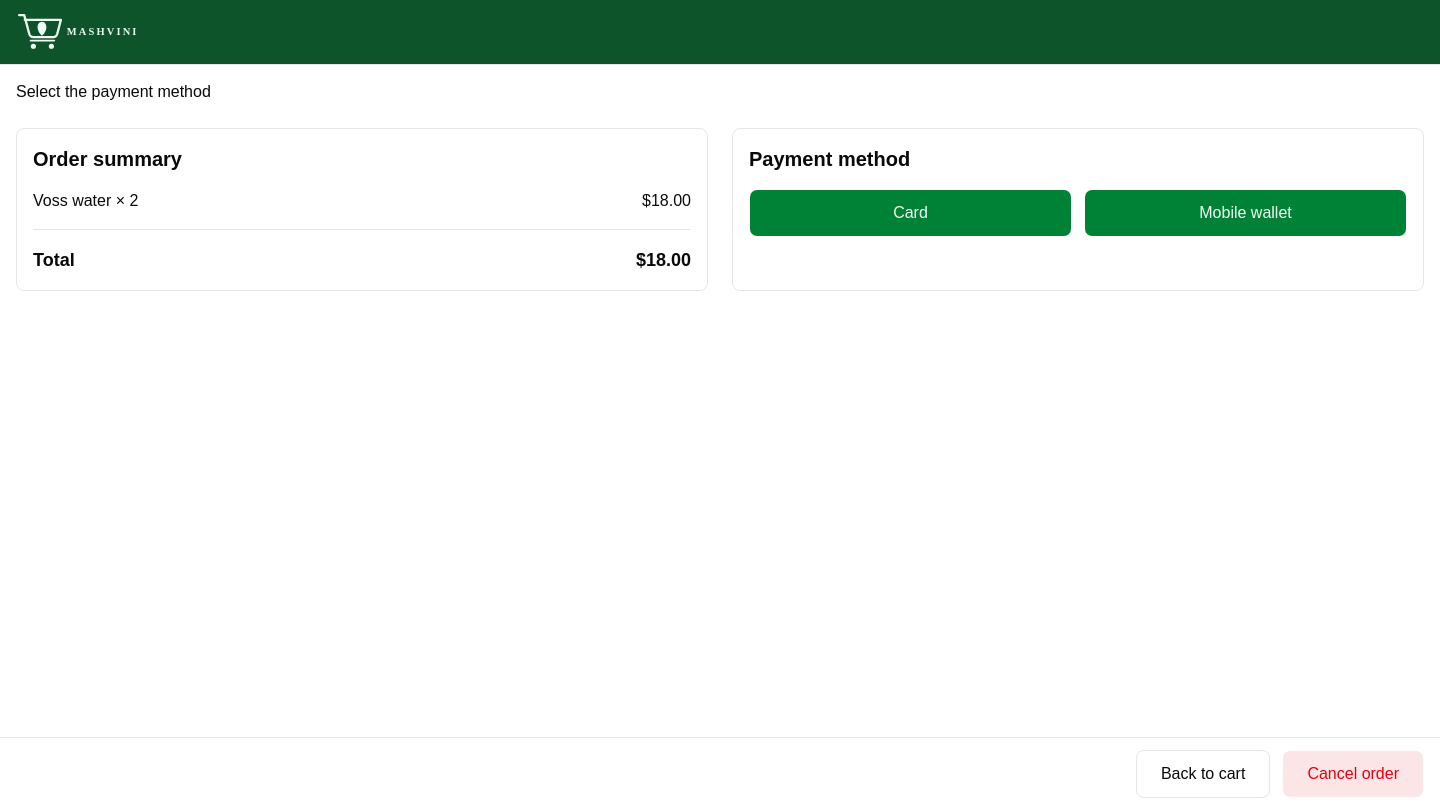
Scenario: PaymentScreen › shows the support dialog after three consecutive declined payments
The width and height of the screenshot is (1440, 810).
Click the button with aria-label "Pay with card" at (910, 213), box [749,189,1072,237]
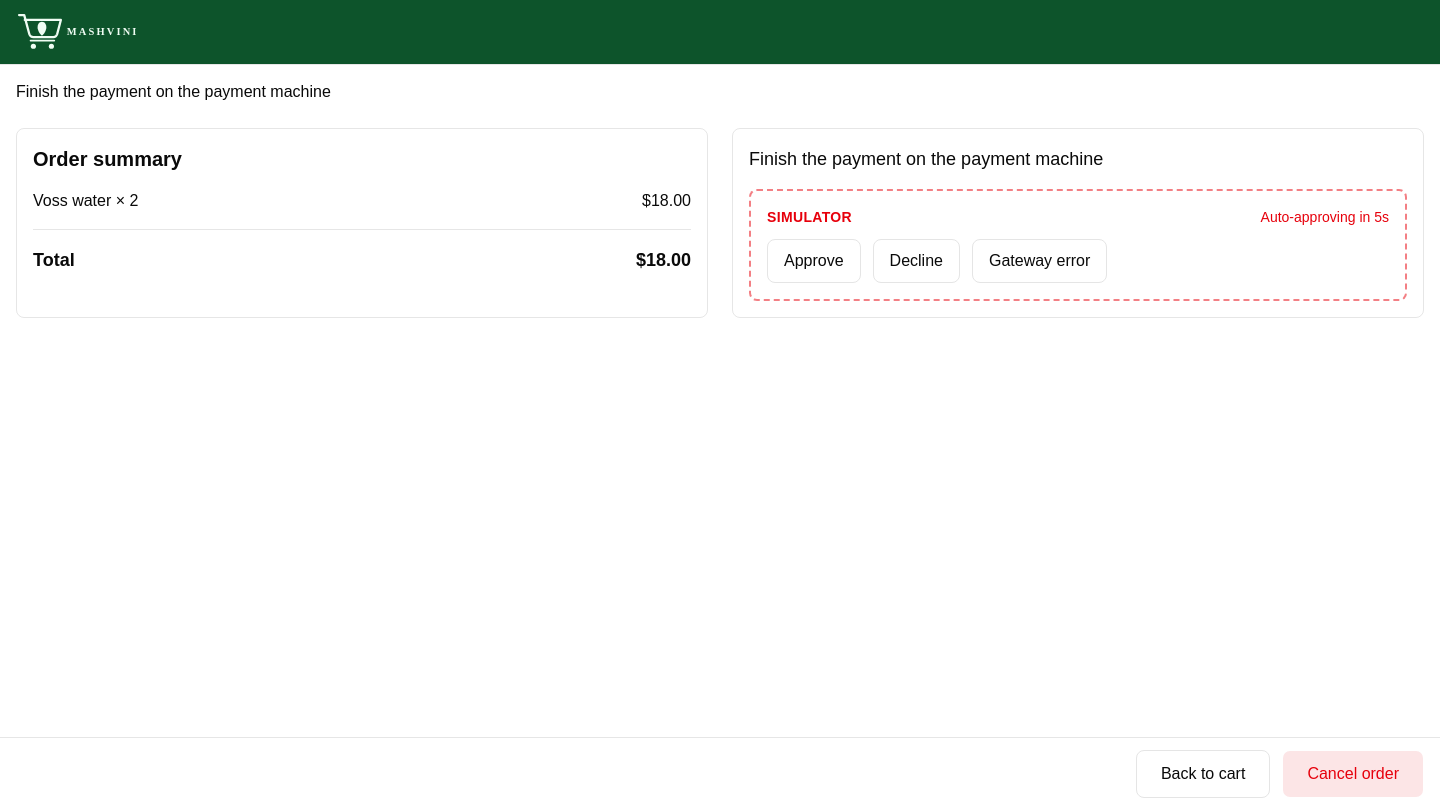
Click the button with aria-label "Simulate a declined payment" at (916, 261), box [873,239,960,283]
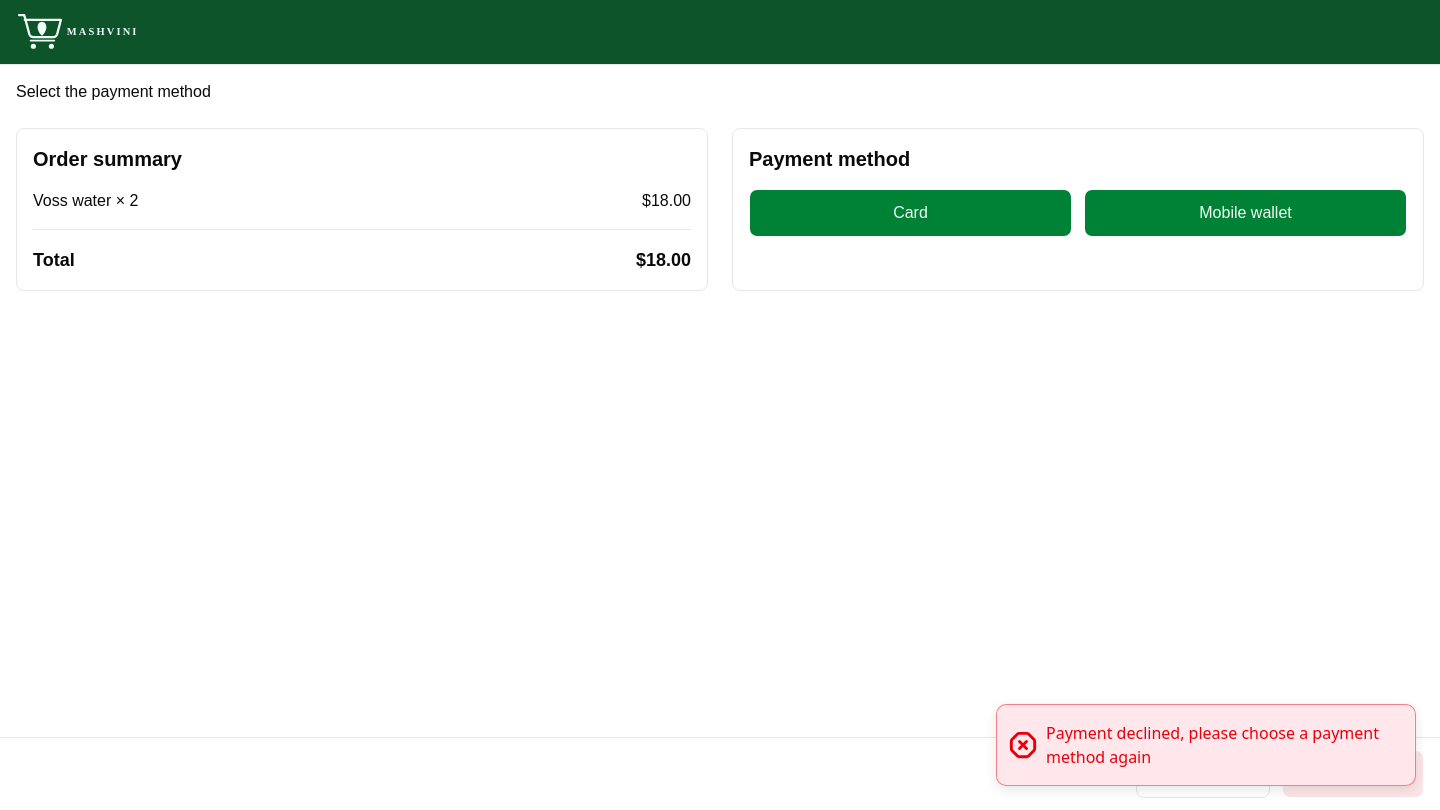
Click the button with aria-label "Pay with card" at (910, 213), box [749,189,1072,237]
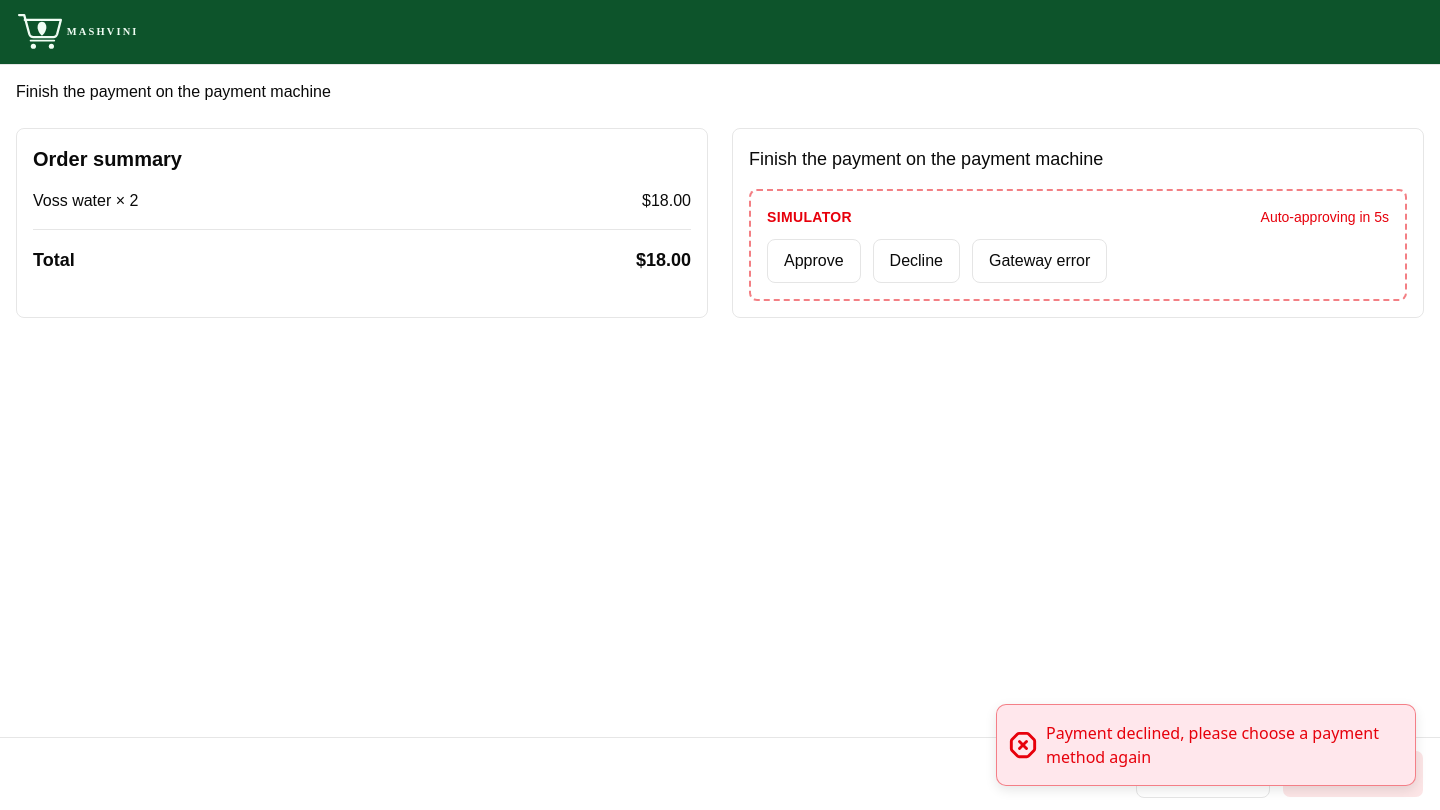
Click the button with aria-label "Simulate a declined payment" at (916, 261), box [873,239,960,283]
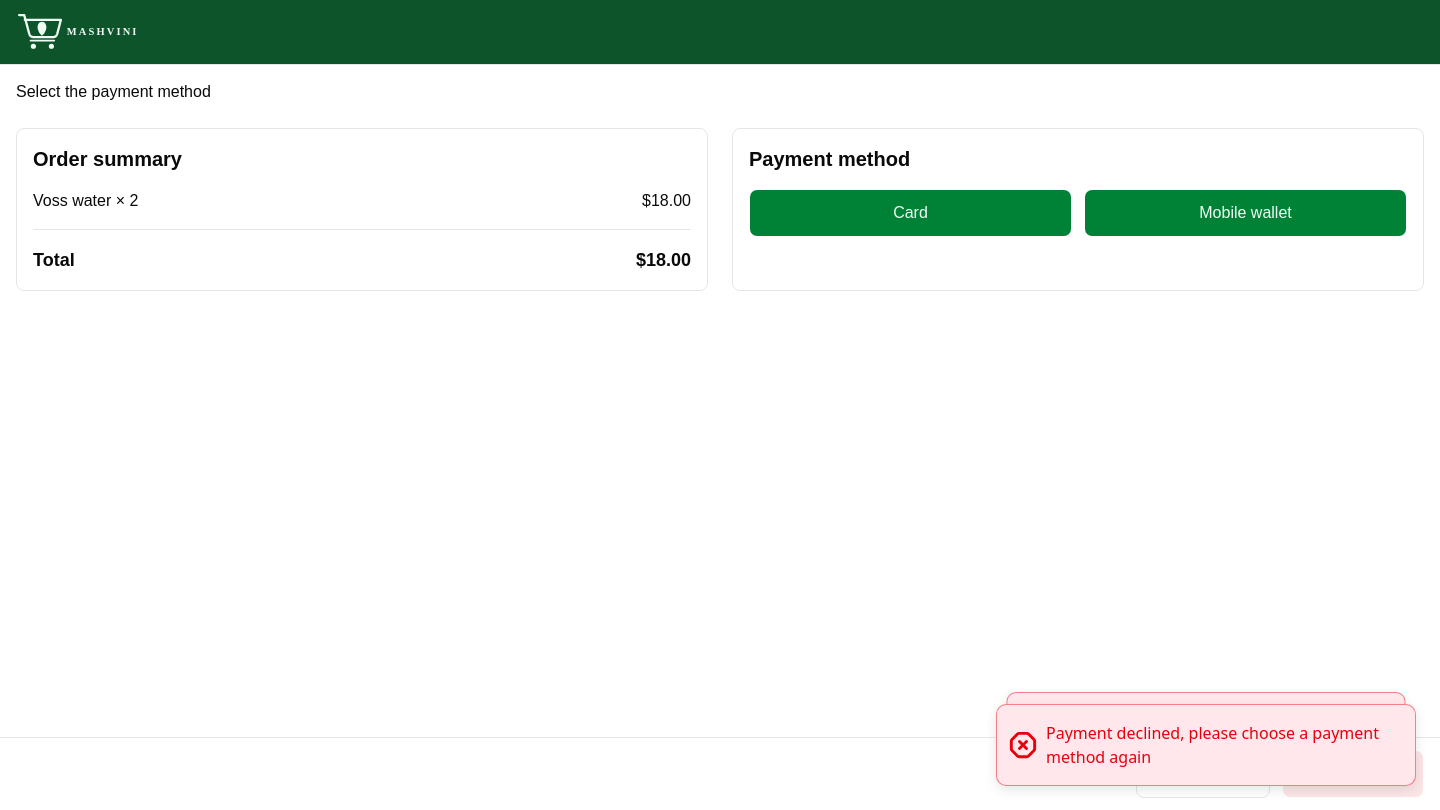
Click the button with aria-label "Pay with card" at (910, 213), box [749,189,1072,237]
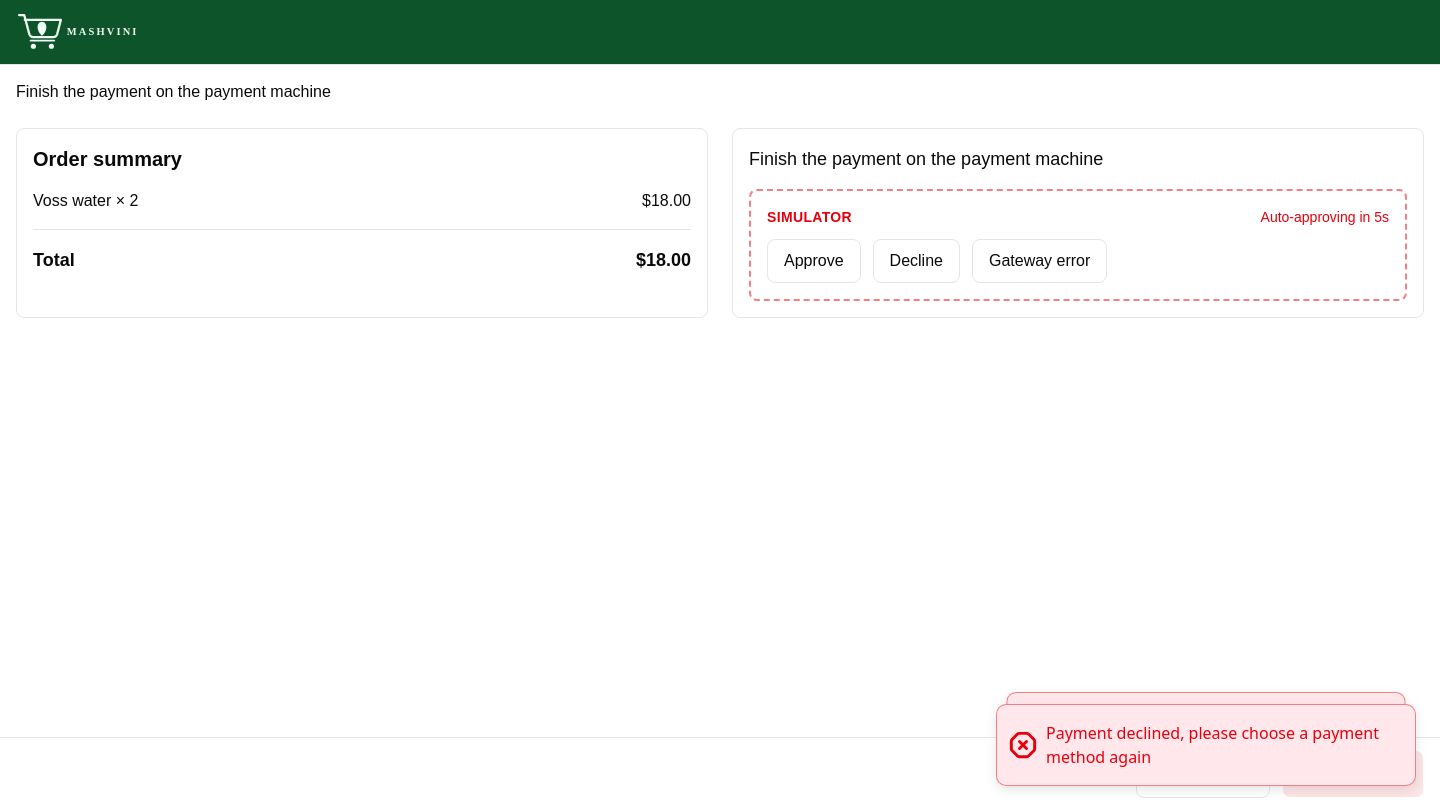
Click the button with aria-label "Simulate a declined payment" at (916, 261), box [873,239,960,283]
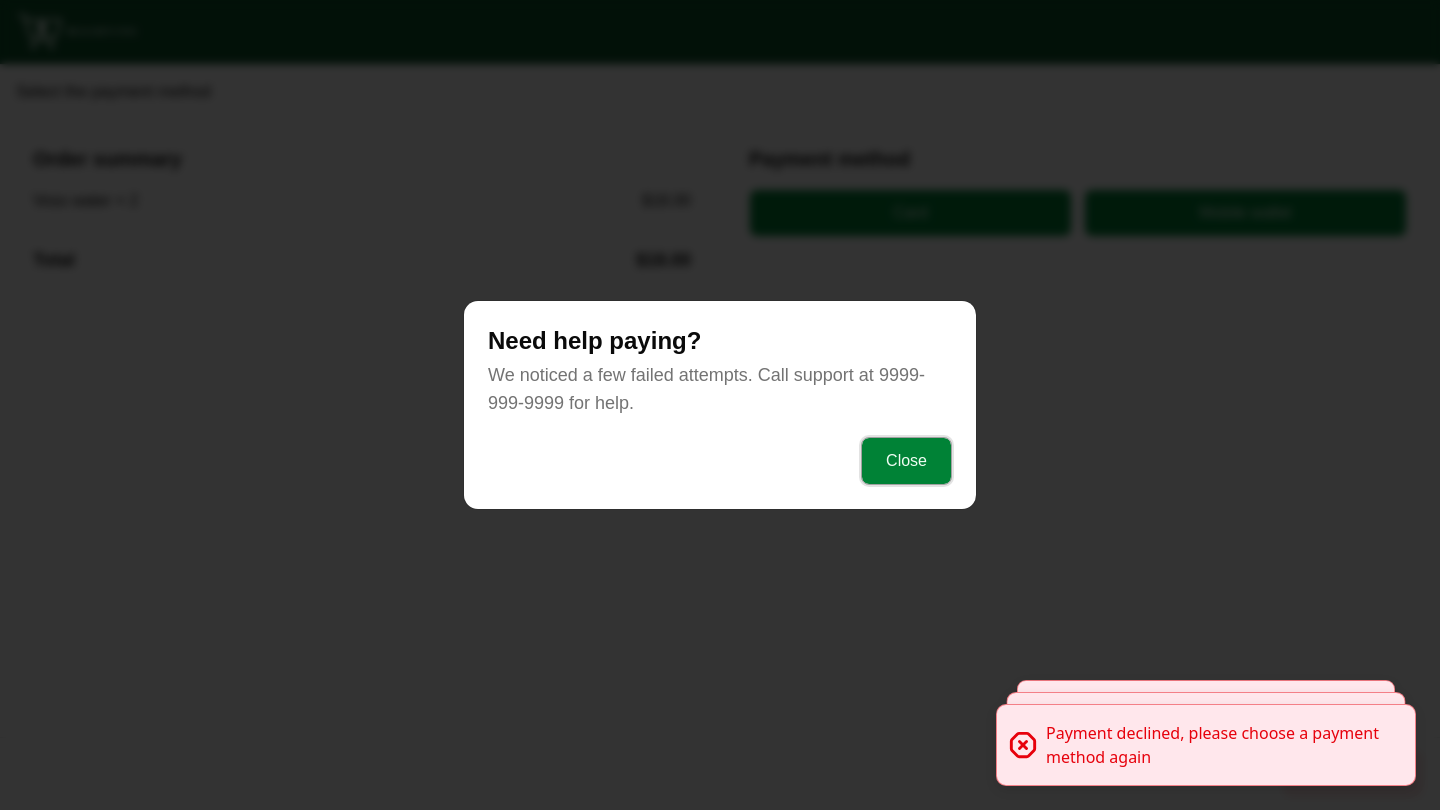
Result: the heading "Need help paying?" is shown at [488,325,701,357]
Result: the text "9999-999-9999" is shown at [488,365,925,413]
